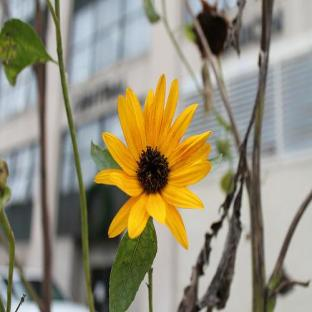sunflower: (94, 75, 213, 250)
